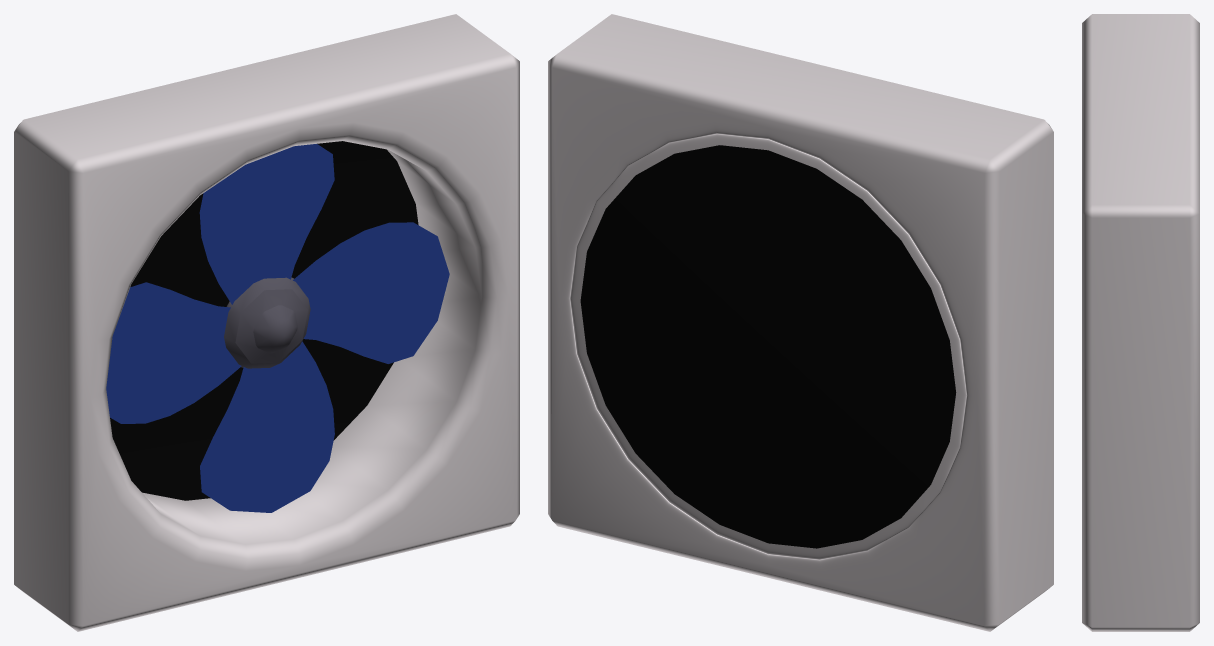
Rendered from SM_Ventilation_03.fbx.
The picture shows the model from 3 angles, left to right: view 1: azimuth 30°, elevation 25°; view 2: azimuth 150°, elevation 25°; view 3: azimuth 270°, elevation 25°; orthographic projection. The views are drawn at different scales.
Parts seen in each view (by area): view 1: SM_Vent_03; view 2: SM_Vent_03; view 3: SM_Vent_03.
Part boxes in pixels (box(x1,y1,x2,y2)): SM_Vent_03: box(14, 14, 519, 631); SM_Vent_03: box(548, 14, 1053, 631); SM_Vent_03: box(1082, 14, 1199, 631).
Size of the model in its own units: 200 by 200 by 50.
